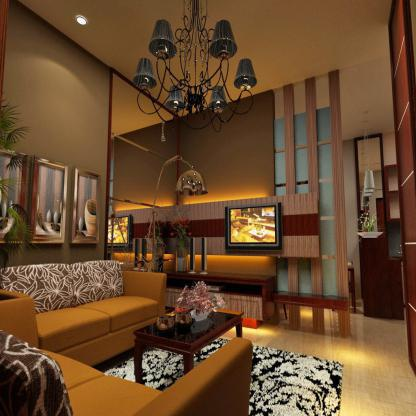meja: (129, 301, 249, 376)
sova: (3, 260, 167, 357)
tv: (222, 205, 283, 250)
